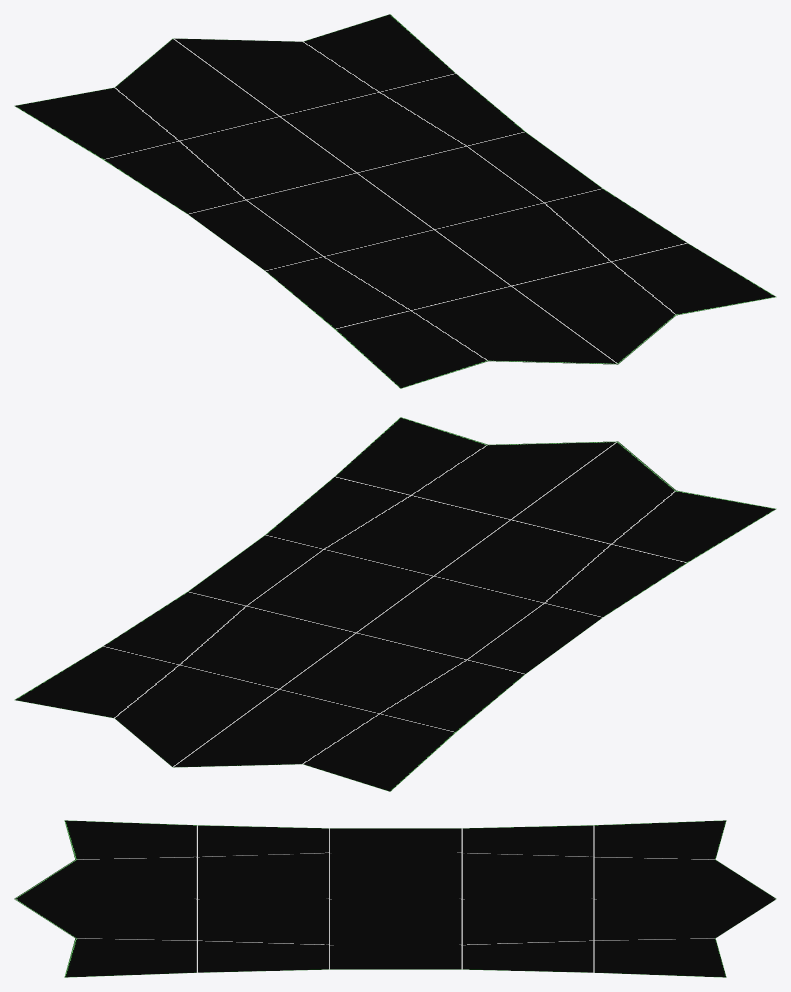
File: rug.FBX
3 views of the same model, one above another, from view 1: azimuth 30°, elevation 25°; view 2: azimuth 150°, elevation 25°; view 3: azimuth 270°, elevation 25° (orthographic). The views are drawn at different scales.
Visible parts, largest first — view 1: Plane001; view 2: Plane001; view 3: Plane001.
Boxes of the visible parts, x1=… form: Plane001: x1=14, y1=14, x2=776, y2=388; Plane001: x1=14, y1=417, x2=776, y2=791; Plane001: x1=14, y1=820, x2=776, y2=977.
Size of the model in its own units: 78.29 by 1.07e-14 by 161.
